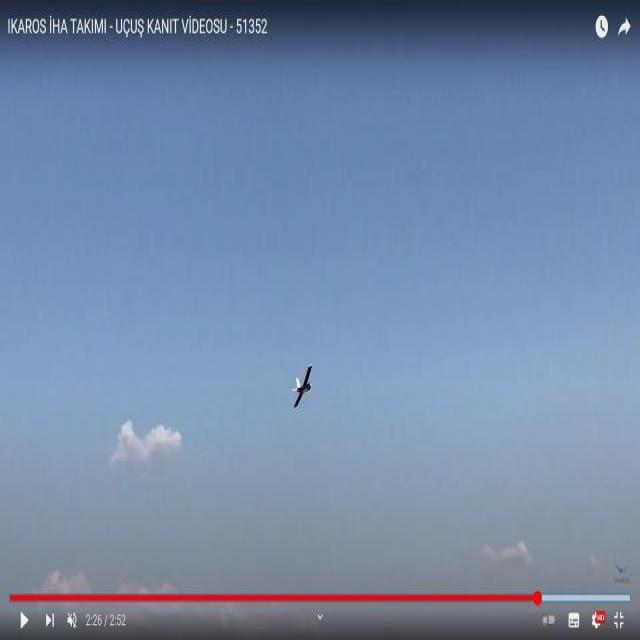UAV: (278, 349, 351, 417)
